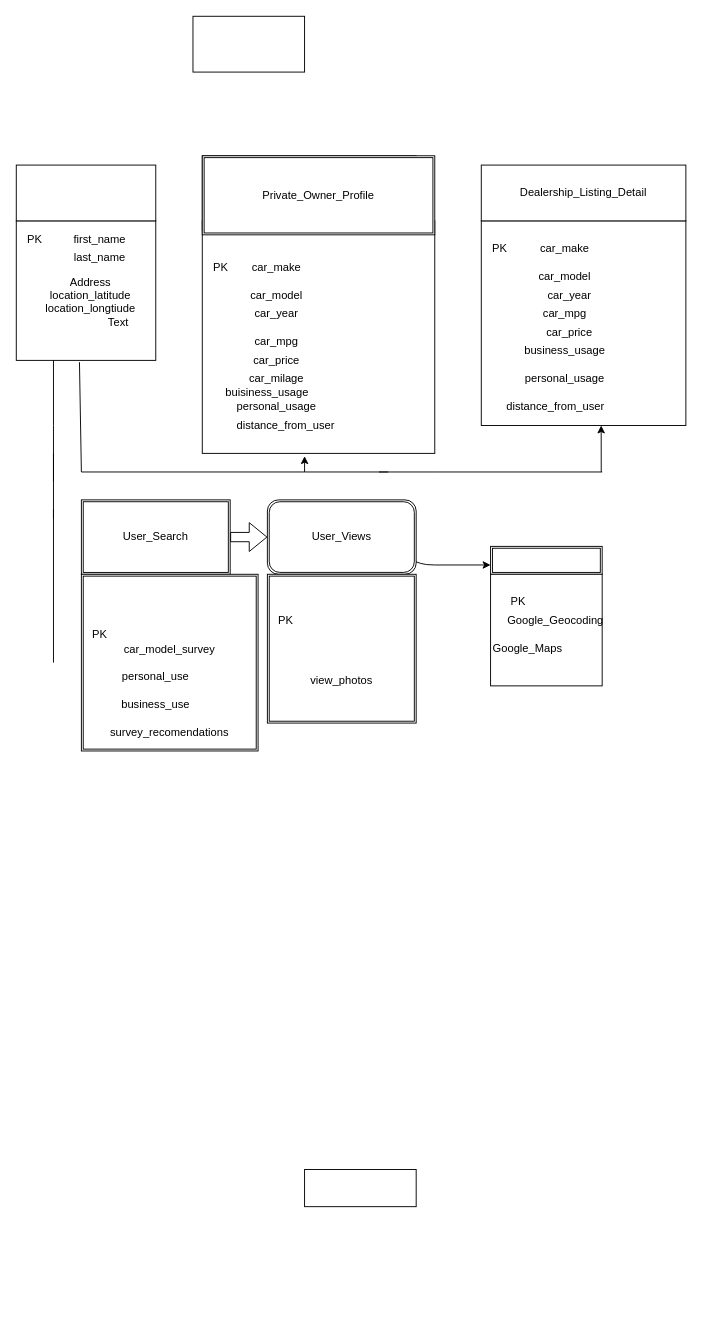
The diagram is 710 pixels wide and 1323 high, and some of its shapes have lost their labels. Here are the shapes that lost their labels. From the top down, the box of each, then its label:
(192, 15, 305, 72): ERD For Auto Tempst Website
(15, 164, 156, 221): user_profile
(490, 545, 602, 574): User_map_view
(266, 573, 416, 723): view_make view_model view_year
